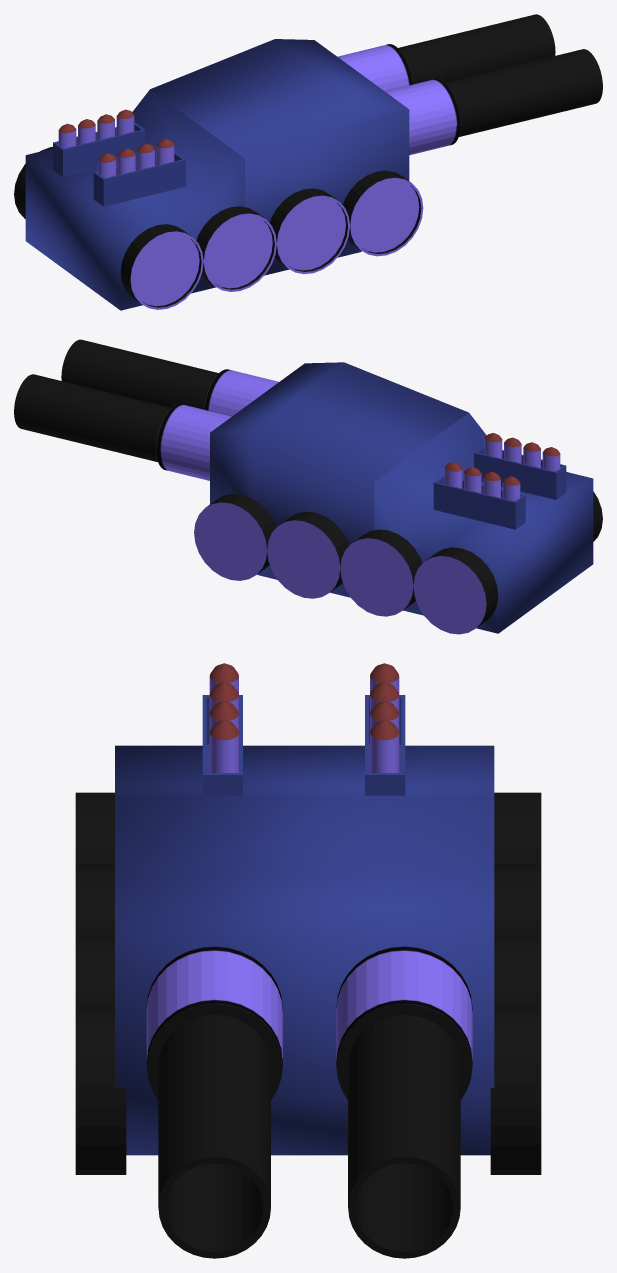
File: mini_tank.fbx
3 renders of one model, top to bottom at view 1: azimuth 30°, elevation 25°; view 2: azimuth 150°, elevation 25°; view 3: azimuth 270°, elevation 25°, orthographic. The views are drawn at different scales.
Visible parts, largest first — view 1: Hull, Tracks, Barrel, Rocket_Launcher, Rocket; view 2: Hull, Tracks, Barrel, Rocket_Launcher, Rocket; view 3: Hull, Barrel, Tracks, Rocket, Rocket_Launcher.
Part boxes in pixels (<box>): Hull: <box>25,39,409,310</box>; Tracks: <box>14,147,423,309</box>; Barrel: <box>337,14,602,155</box>; Rocket_Launcher: <box>53,122,185,206</box>; Rocket: <box>58,109,174,178</box>; Hull: <box>210,362,593,633</box>; Tracks: <box>194,491,602,634</box>; Barrel: <box>14,339,278,480</box>; Rocket_Launcher: <box>433,445,566,529</box>; Rocket: <box>444,433,560,501</box>; Hull: <box>115,745,494,1155</box>; Barrel: <box>146,946,472,1258</box>; Tracks: <box>75,792,541,1174</box>; Rocket: <box>209,663,399,772</box>; Rocket_Launcher: <box>202,695,405,795</box>.
Bounding box in the file's own units: 245 × 600 × 164.
2 materials, 1 textured.
